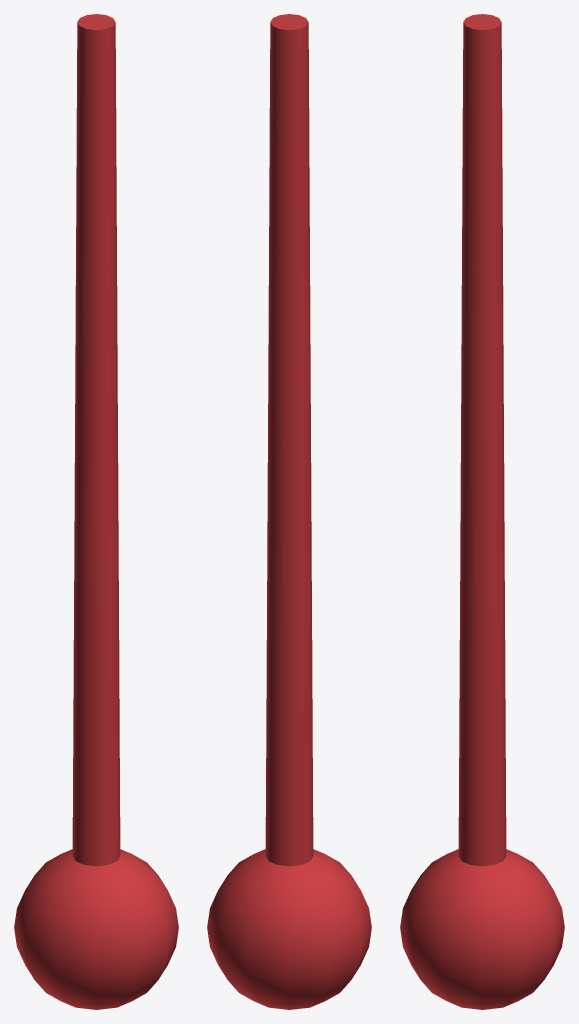
File: Obtacle_Ball_Red.fbx
The picture shows the model from 3 angles, left to right: view 1: azimuth 30°, elevation 25°; view 2: azimuth 150°, elevation 25°; view 3: azimuth 270°, elevation 25°; orthographic projection.
Parts seen in each view (by area): view 1: obtacle_ball_red; view 2: obtacle_ball_red; view 3: obtacle_ball_red.
Part boxes in pixels (box(x1,y1,x2,y2)): obtacle_ball_red: box(14, 14, 178, 1009); obtacle_ball_red: box(207, 14, 371, 1009); obtacle_ball_red: box(400, 14, 564, 1009).
Size of the model in its own units: 145 by 950 by 145.
1 material, 1 textured.
